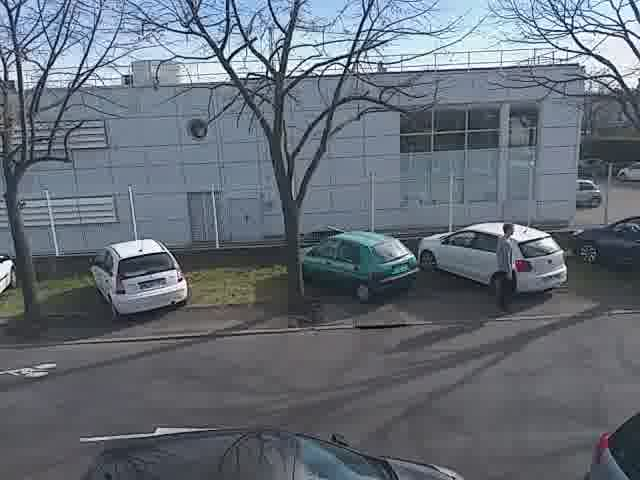persona: (486, 217, 525, 318)
